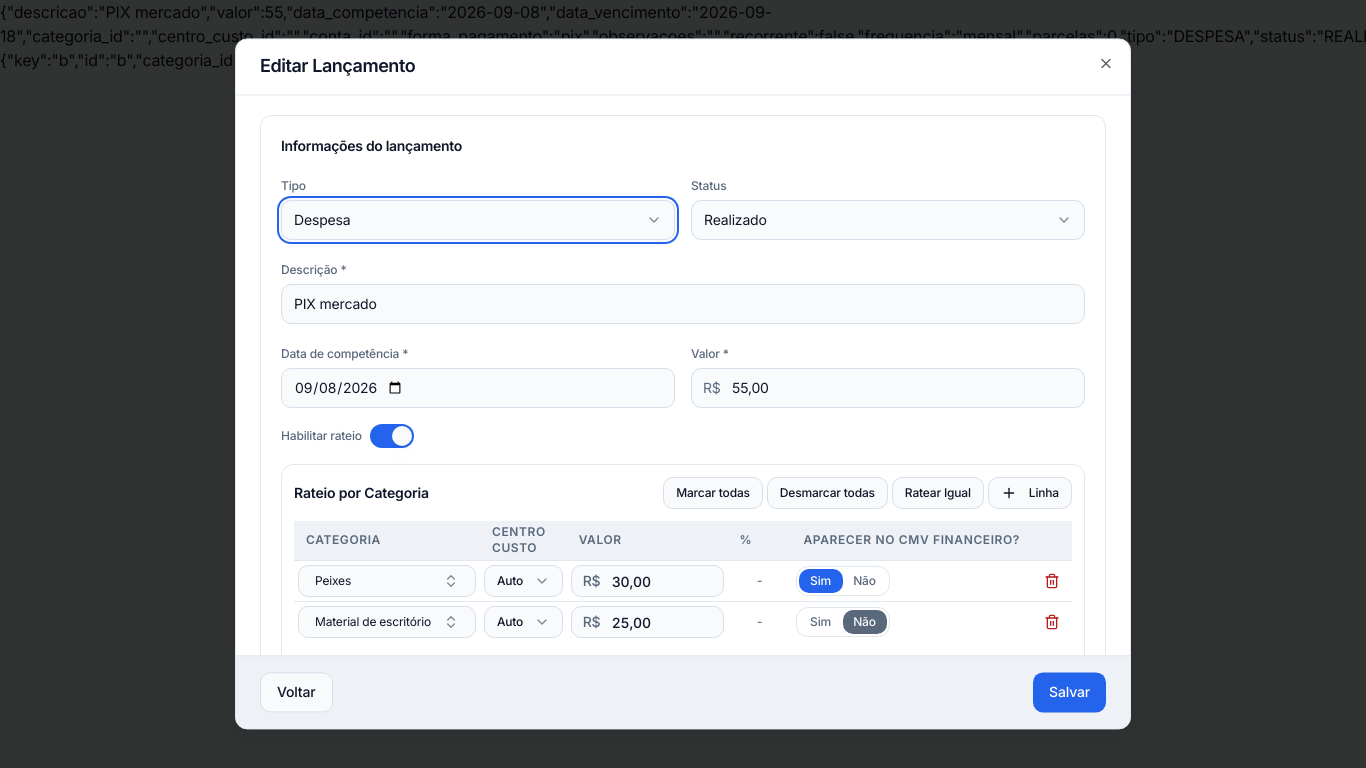
Test: Lançamentos — "Aparecer no CMV financeiro?" › despesa com rateio: o aviso de unificar fala da despesa e o salvar segue livre
What coordinates should you click on to do the following:
click the switch
I would click on:
 (392, 436)
Its box is [370,424,414,448].
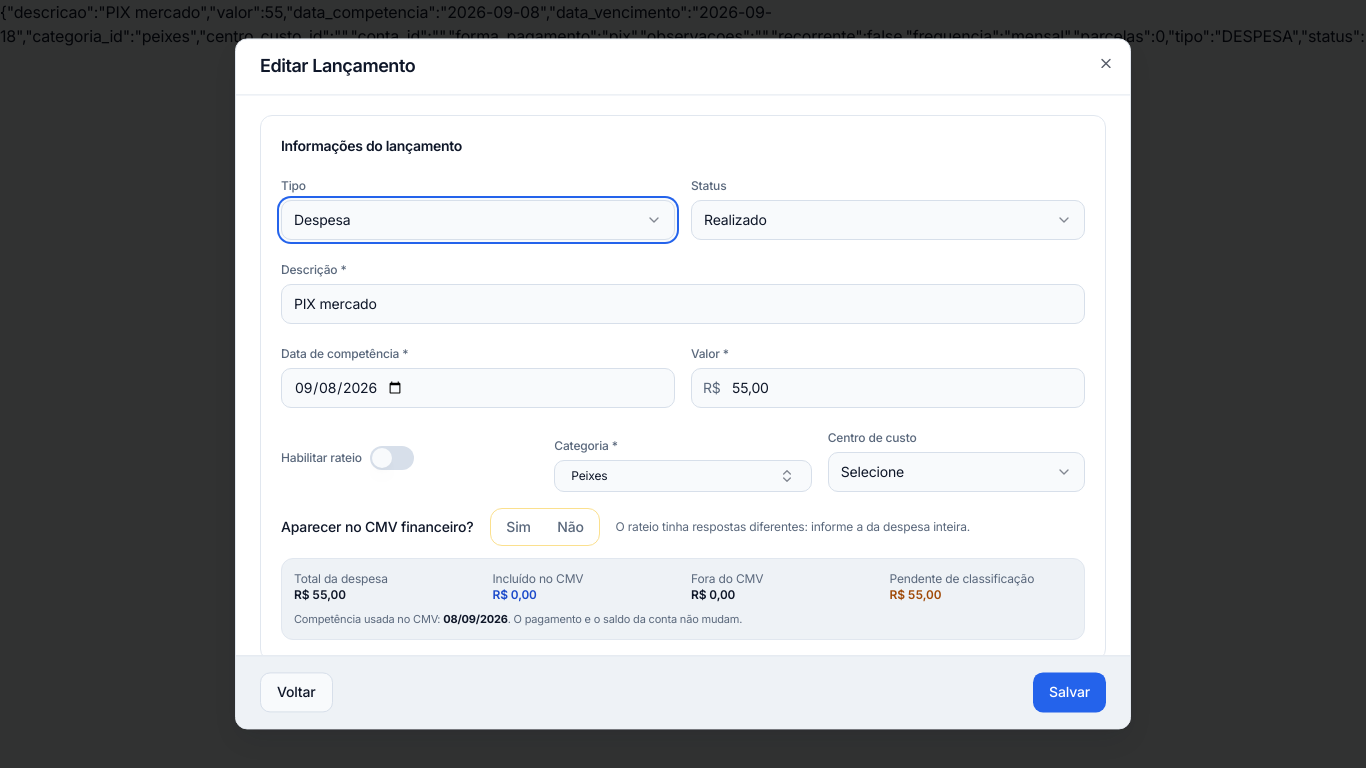
Expected: the button "Salvar" is enabled, [1033,673,1106,713]
Now the text "O rateio tinha respostas diferentes: informe a da despesa inteira." is shown, box [616,519,970,535]
